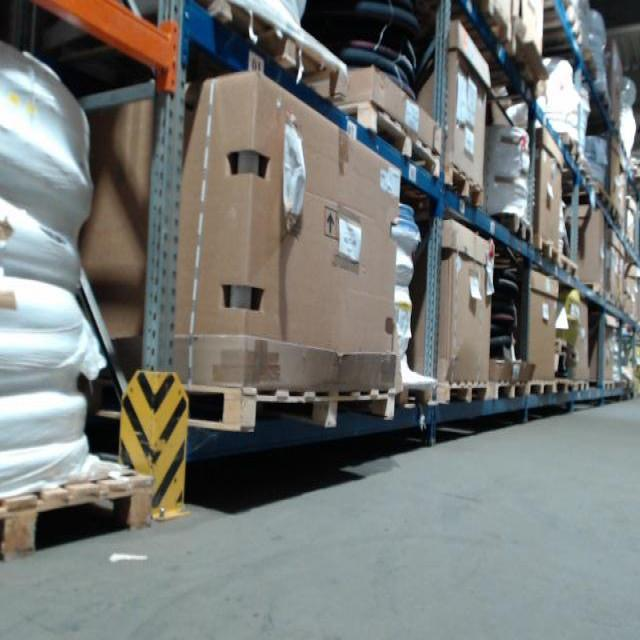pallet: (0, 456, 155, 567), (203, 0, 349, 103), (168, 377, 397, 436), (339, 93, 442, 180), (441, 162, 484, 211), (435, 376, 491, 405), (496, 209, 532, 245), (490, 379, 528, 405), (532, 235, 562, 266), (556, 130, 581, 167), (563, 3, 584, 45), (591, 182, 612, 213), (527, 376, 554, 397), (559, 252, 578, 280), (582, 50, 598, 78), (552, 377, 574, 395), (606, 199, 620, 225), (572, 380, 589, 392), (602, 376, 615, 391)
